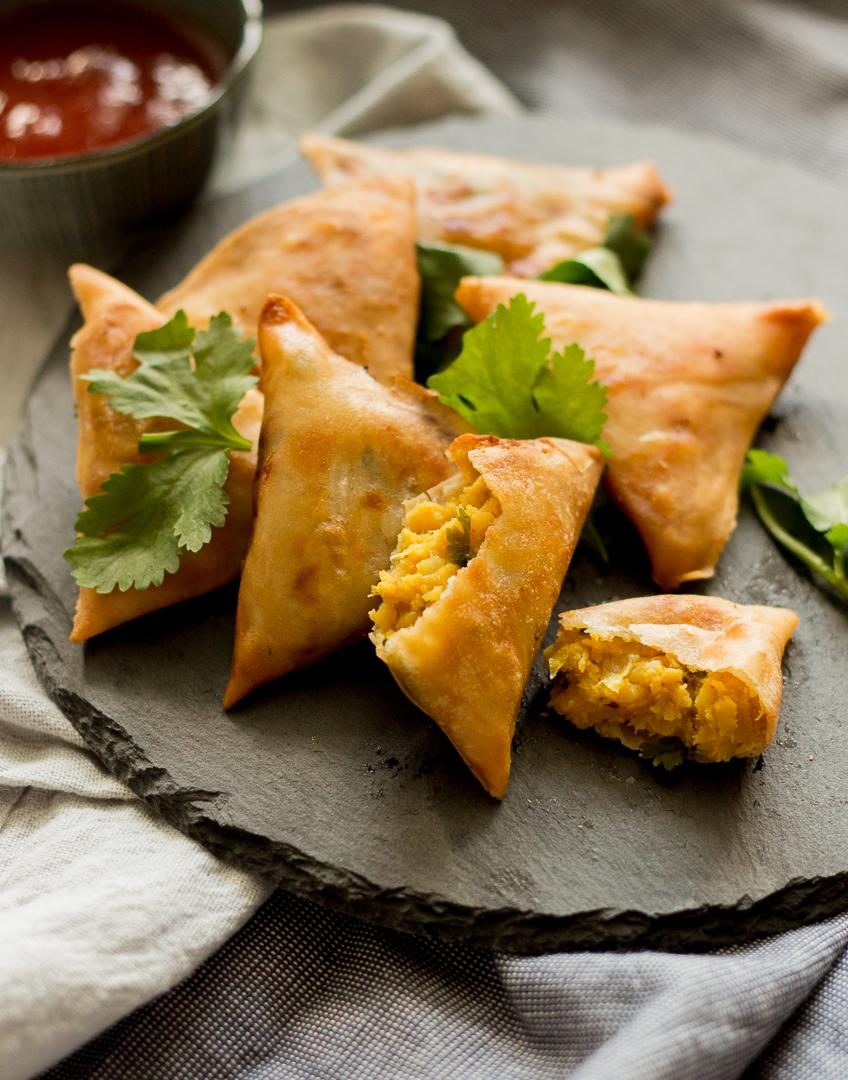samosa: (224, 295, 468, 708), (156, 177, 420, 381), (70, 392, 262, 641), (544, 595, 799, 769)
